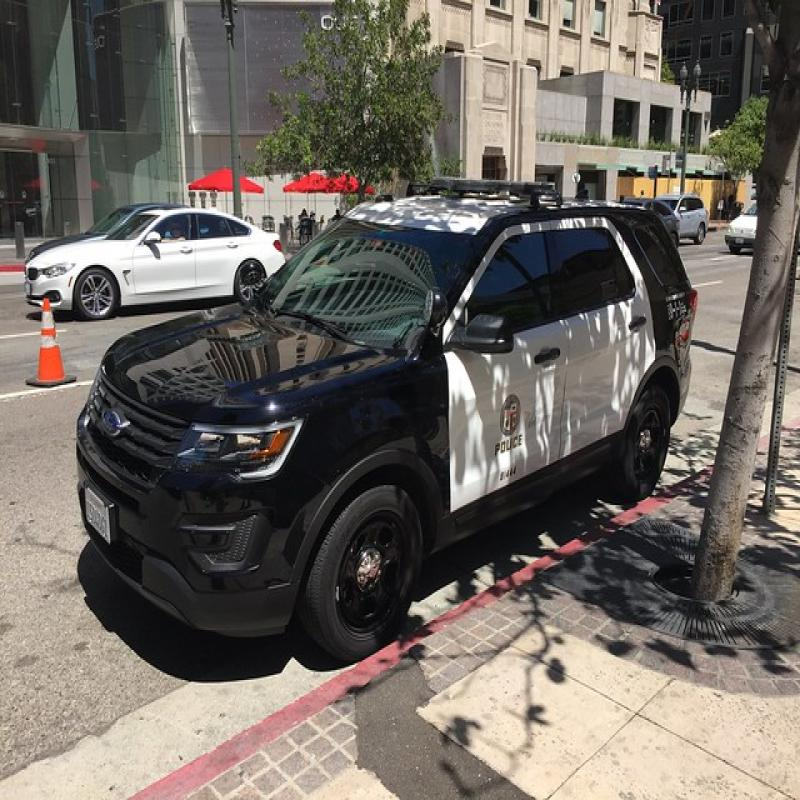AmbulanceSiren: (410, 146, 556, 216)
